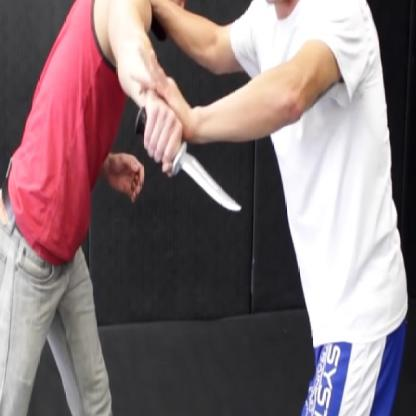knife: (131, 95, 249, 228)
